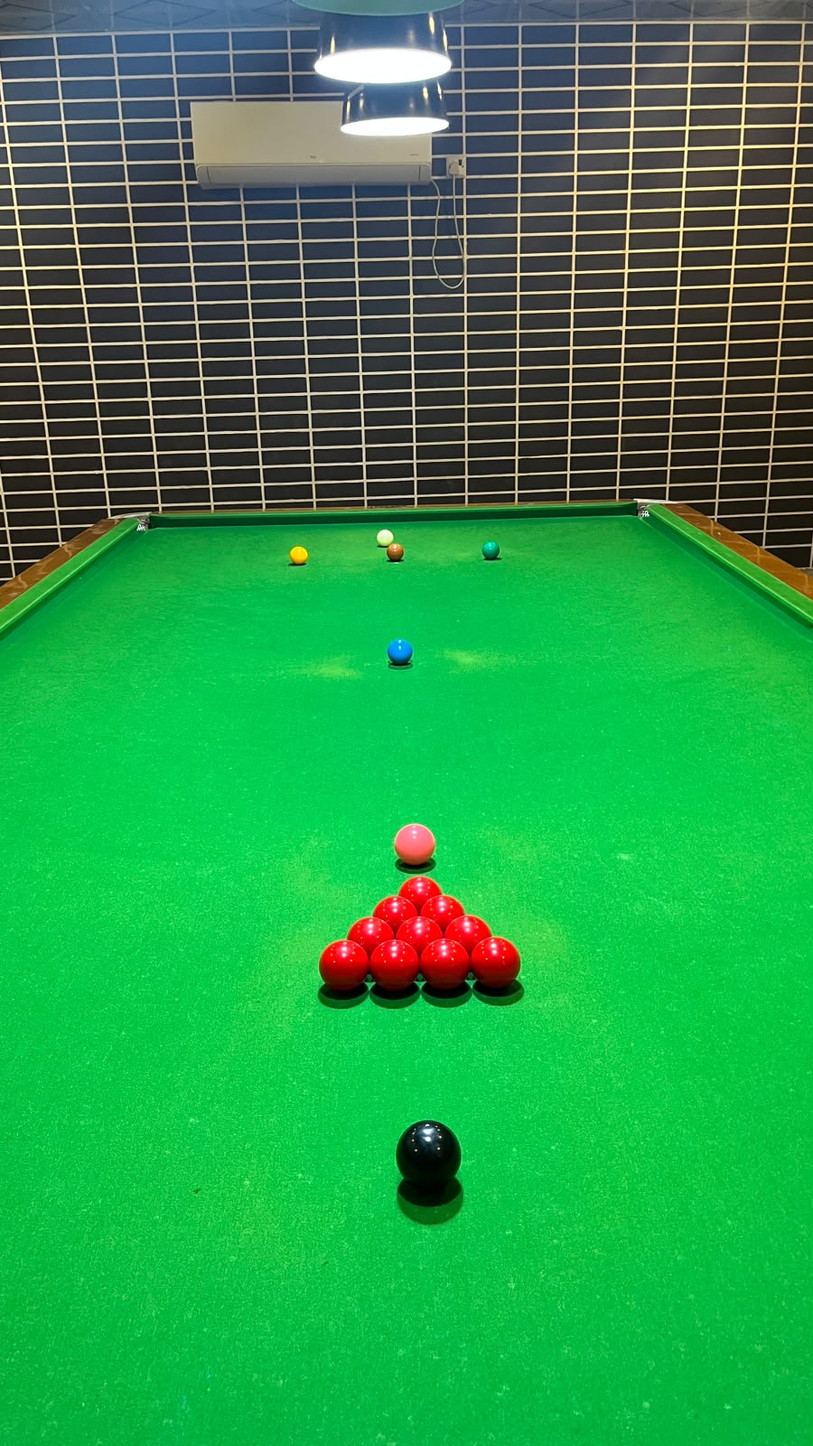Snooker: (298, 864, 549, 1016)
